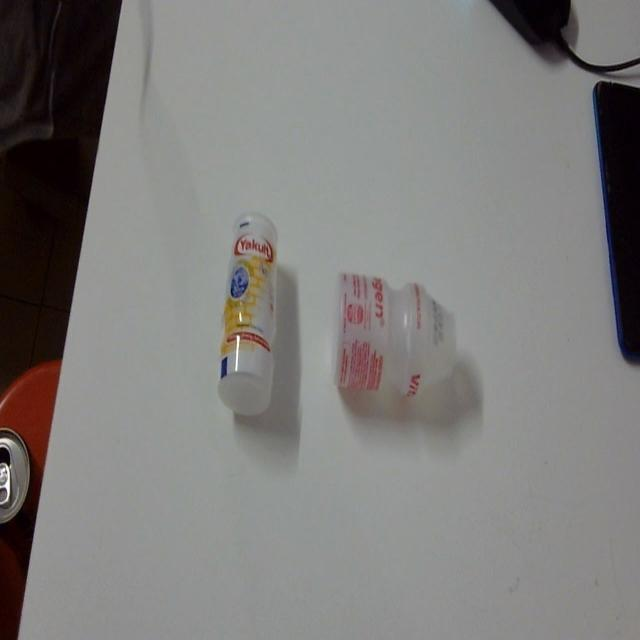plastic_laydown_0rotation: (329, 256, 466, 426)
plastic_laydown_90rotation: (212, 208, 286, 413)
